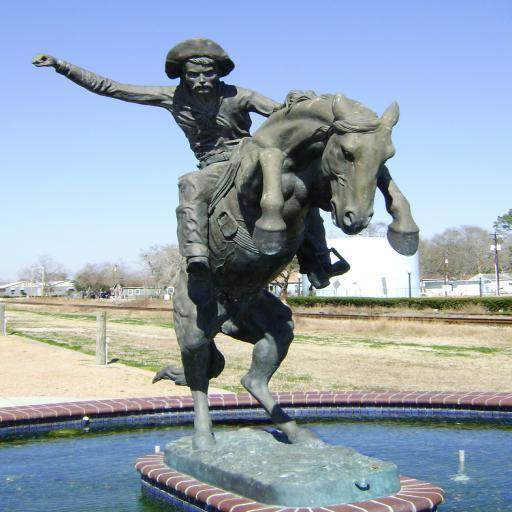horse: (172, 90, 420, 454)
